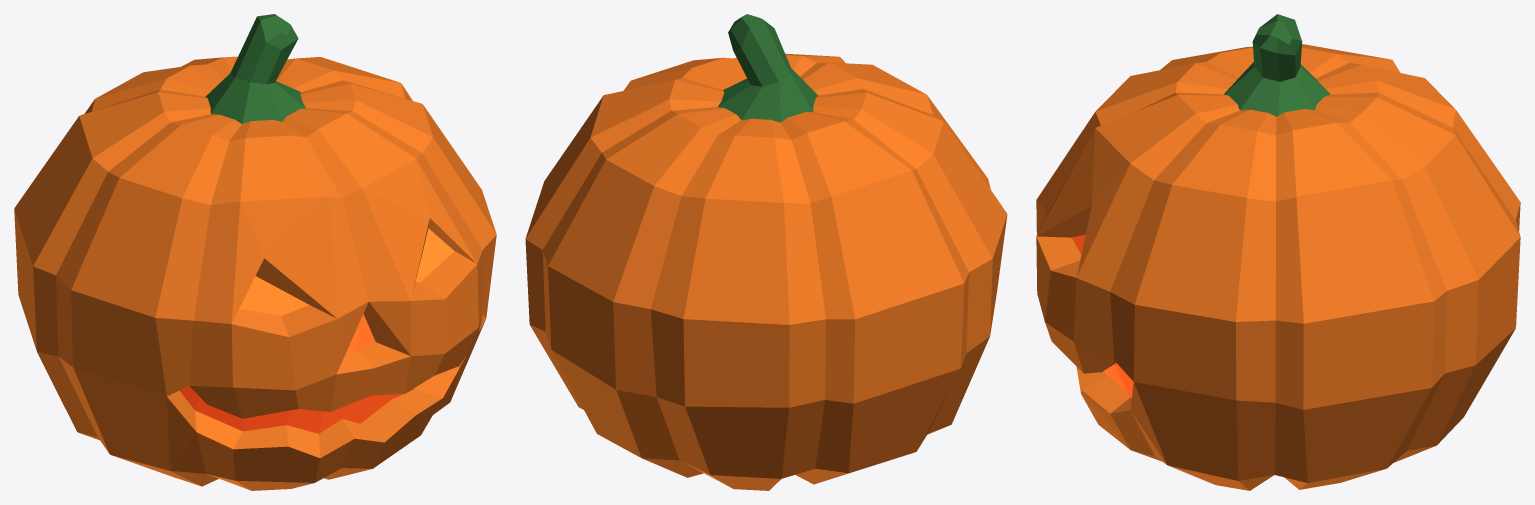
File: fantasy_pumkin-helloween.fbx
3 views of the same model, side by side, from view 1: azimuth 30°, elevation 25°; view 2: azimuth 150°, elevation 25°; view 3: azimuth 270°, elevation 25° (orthographic). The views are drawn at different scales.
Visible parts, largest first — view 1: fantasy_pumkin_helloween; view 2: fantasy_pumkin_helloween; view 3: fantasy_pumkin_helloween.
Boxes of the visible parts, bbox=[...] form: fantasy_pumkin_helloween: bbox=[14, 14, 496, 490]; fantasy_pumkin_helloween: bbox=[525, 14, 1007, 490]; fantasy_pumkin_helloween: bbox=[1036, 14, 1520, 490].
Size of the model in its own units: 200 by 193 by 195.
